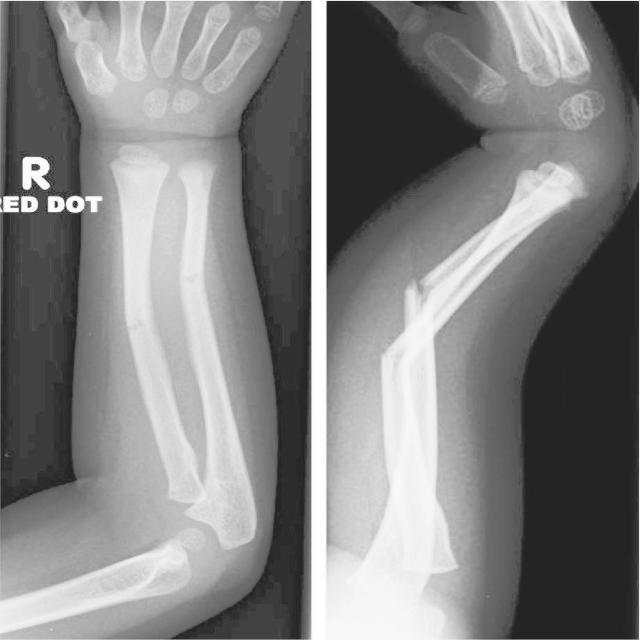GreenStick Fracture: (115, 307, 172, 345), (399, 268, 442, 306), (169, 261, 210, 294), (378, 338, 400, 367)
